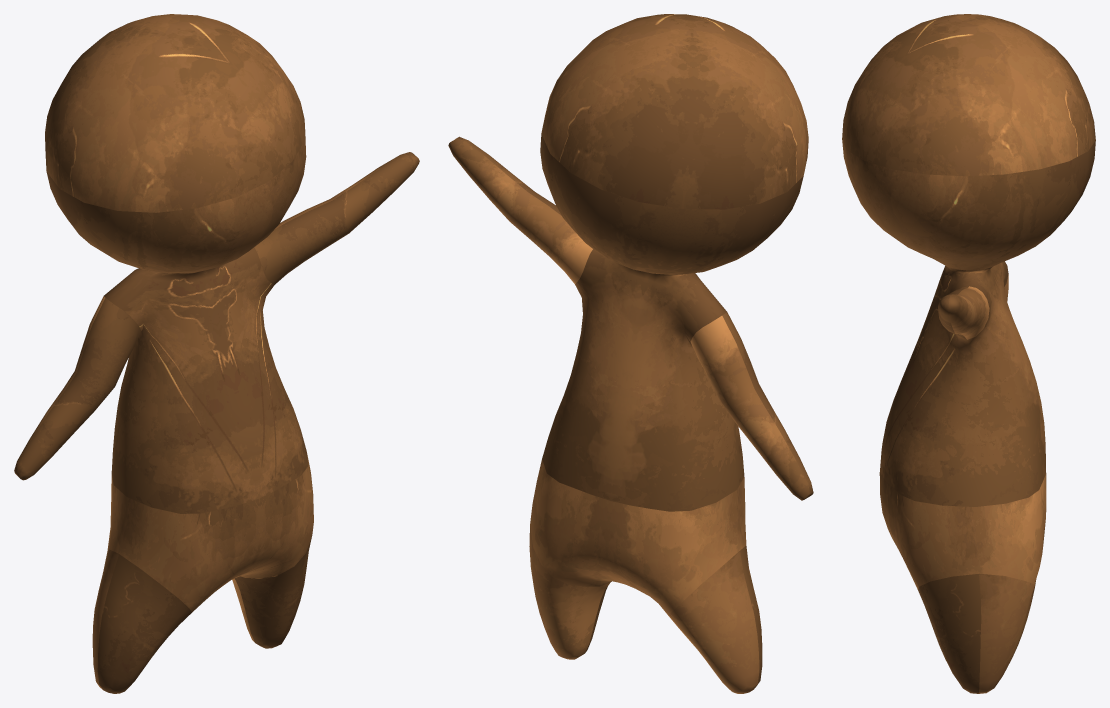
The model's file is poersonagem3.fbx.
3 views of the same model, side by side, from view 1: azimuth 30°, elevation 25°; view 2: azimuth 150°, elevation 25°; view 3: azimuth 270°, elevation 25° (orthographic). The views are drawn at different scales.
Parts seen in each view (by area): view 1: polySurface91; view 2: polySurface91; view 3: polySurface91.
Part boxes in pixels (x1,y1,x2,y2): polySurface91: [14, 14, 419, 693]; polySurface91: [448, 14, 813, 693]; polySurface91: [842, 14, 1095, 693].
Bounding box in the file's own units: 38.21 × 62.16 × 23.02.
